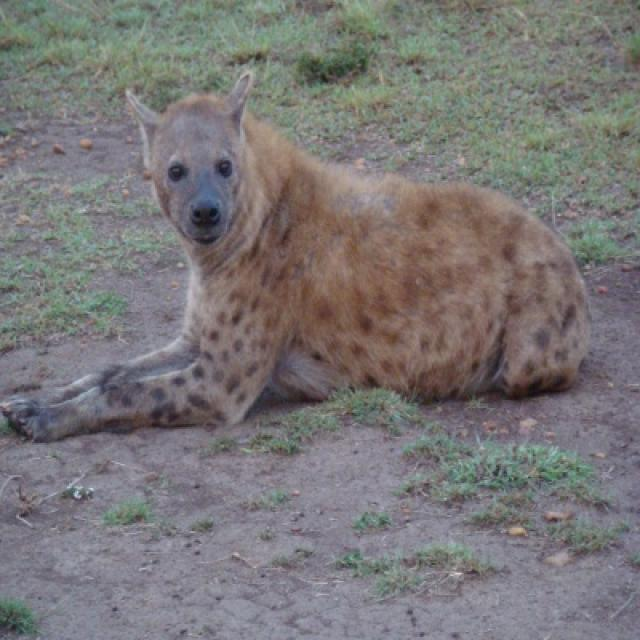hyena: (0, 72, 590, 446)
